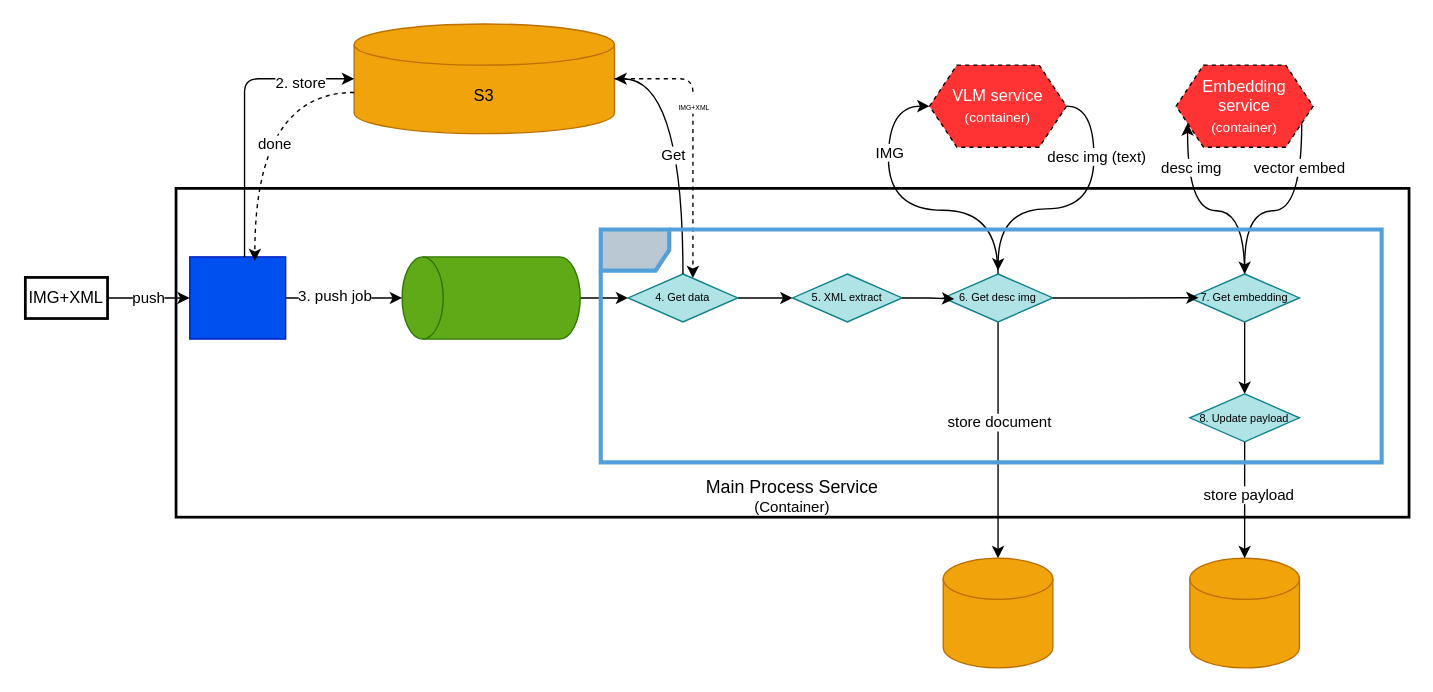
This 1433x692 diagram has some shape labels left out. The centre of each missing label's shape, as x and y in pixels:
"API Ingest" goes at (237,297).
"Elastic search" goes at (997,612).
"Job (batch)" goes at (990,345).
"Job Queue" goes at (490,297).
"Qdrant" goes at (1243,612).
